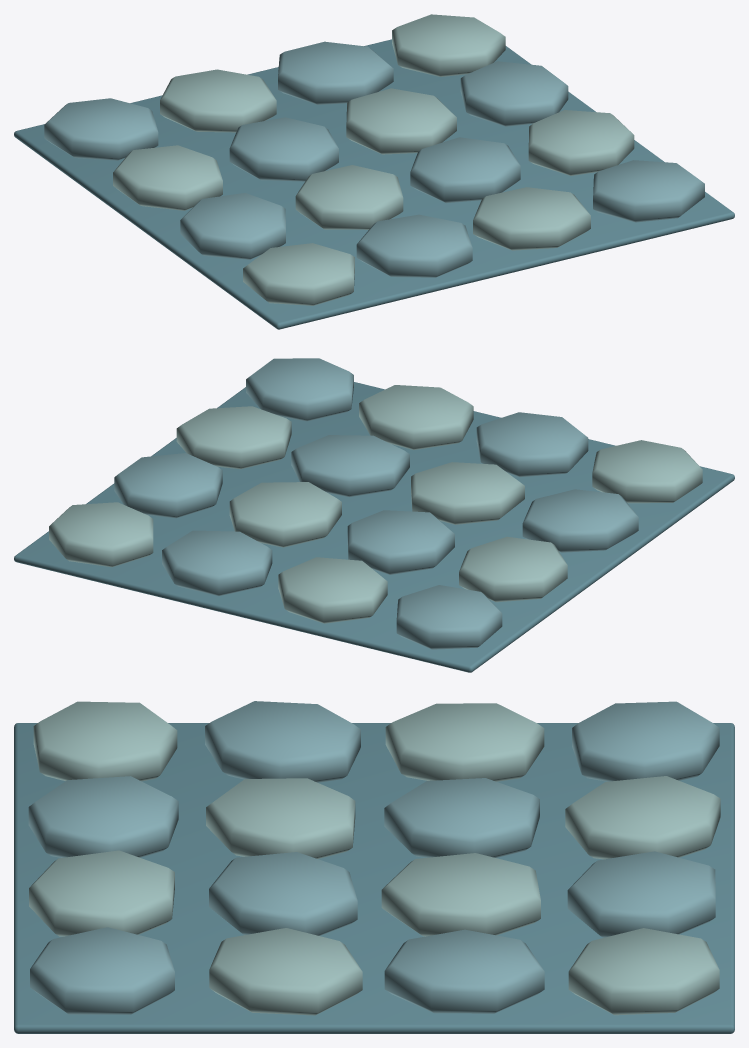
Rendered from hotelFloorPatch.glb.
The picture shows the model from 3 angles, top to bottom: view 1: azimuth 30°, elevation 25°; view 2: azimuth 150°, elevation 25°; view 3: azimuth 270°, elevation 25°; orthographic projection. The views are drawn at different scales.
Visible parts, largest first — view 1: hotelFloorPatch Bellmare mist paver patch, hotelFloorPatch Bellmare blue-gray paver patch, hotelFloorPatch Bellmare cool sea-glass grout patch; view 2: hotelFloorPatch Bellmare mist paver patch, hotelFloorPatch Bellmare blue-gray paver patch, hotelFloorPatch Bellmare cool sea-glass grout patch; view 3: hotelFloorPatch Bellmare mist paver patch, hotelFloorPatch Bellmare blue-gray paver patch, hotelFloorPatch Bellmare cool sea-glass grout patch.
Boxes of the visible parts, left/top/right/bottom form: hotelFloorPatch Bellmare mist paver patch: left=113, top=14, right=634, bottom=305; hotelFloorPatch Bellmare blue-gray paver patch: left=44, top=41, right=704, bottom=277; hotelFloorPatch Bellmare cool sea-glass grout patch: left=14, top=39, right=734, bottom=329; hotelFloorPatch Bellmare mist paver patch: left=49, top=385, right=702, bottom=623; hotelFloorPatch Bellmare blue-gray paver patch: left=114, top=358, right=638, bottom=649; hotelFloorPatch Bellmare cool sea-glass grout patch: left=14, top=382, right=734, bottom=672; hotelFloorPatch Bellmare mist paver patch: left=29, top=701, right=720, bottom=1015; hotelFloorPatch Bellmare blue-gray paver patch: left=28, top=701, right=719, bottom=1014; hotelFloorPatch Bellmare cool sea-glass grout patch: left=14, top=723, right=734, bottom=1033.
Size of the model in its own units: 1 by 0.06 by 1.
